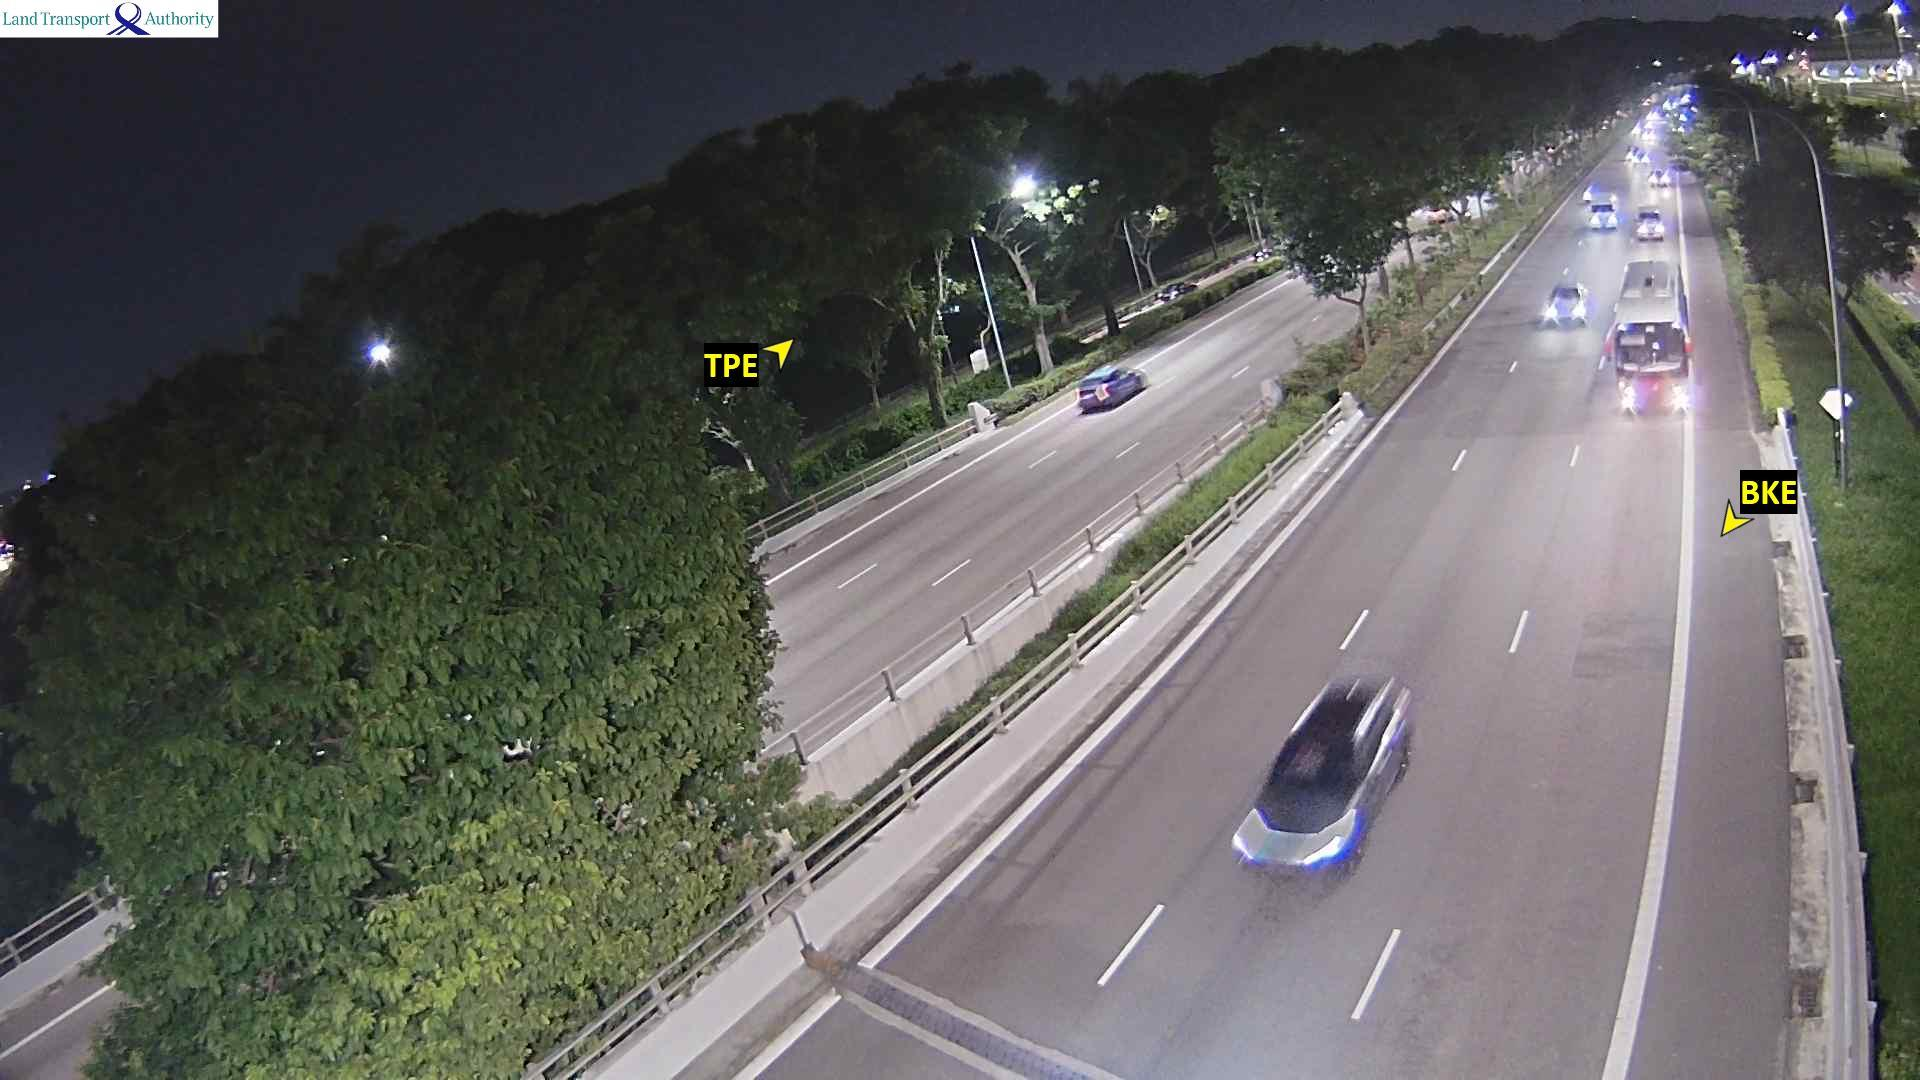incoming: (1226, 733, 1380, 894), (1604, 325, 1701, 418), (1542, 289, 1591, 331), (1585, 204, 1622, 233), (1635, 210, 1666, 241), (1650, 172, 1674, 192), (1642, 129, 1659, 143), (1634, 153, 1650, 167), (1623, 146, 1637, 159)
